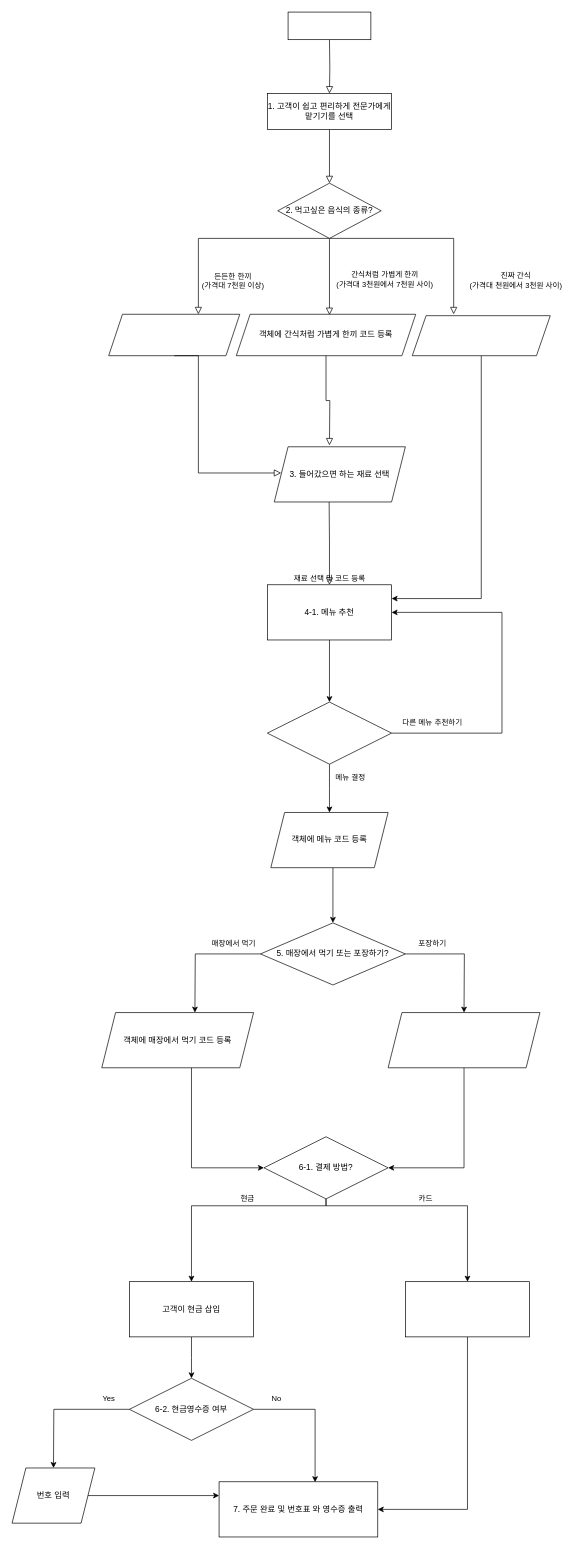
The diagram is 574 pixels wide and 1549 high, and some of its shapes have lost their labels. Here are the shapes that lost their labels. From the top down, the centre of each, then its label:
At [329,25]: "고객이 기계에 접근".
At [174,335]: "객체에 메뉴코드 등록".
At [481,335]: "객체에 진짜 간식 코드 등록".
At [329,732]: "4-2. 메뉴 결정?".
At [463,1040]: "객체에 포장하기 코드 등록".
At [467,1309]: "고객이 카드 삽입".
